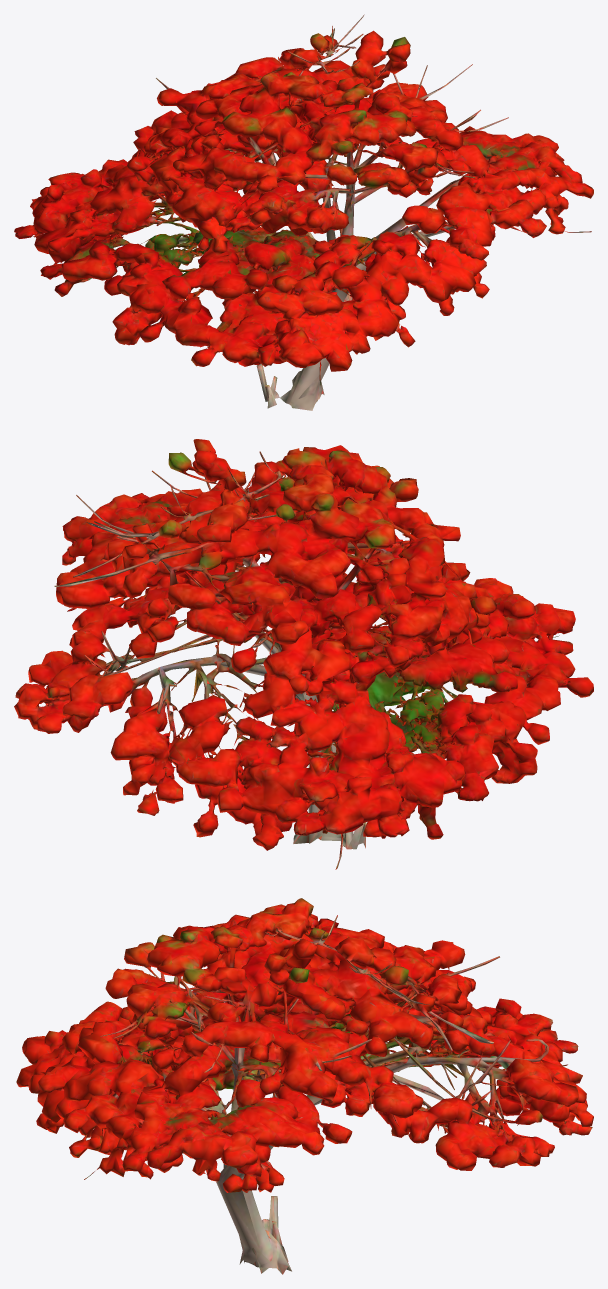
File: phuong_c.glb
3 renders of one model, top to bottom at view 1: azimuth 30°, elevation 25°; view 2: azimuth 150°, elevation 25°; view 3: azimuth 270°, elevation 25°, orthographic. The views are drawn at different scales.
Visible parts, largest first — view 1: Mesh_0; view 2: Mesh_0; view 3: Mesh_0.
Part boxes in pixels (bbox=[...]): Mesh_0: bbox=[14, 14, 593, 410]; Mesh_0: bbox=[14, 439, 593, 869]; Mesh_0: bbox=[16, 898, 593, 1274].
Bounding box in the file's own units: 1.86 × 1.34 × 1.89.
Materials: 1 (1 with a texture image).
